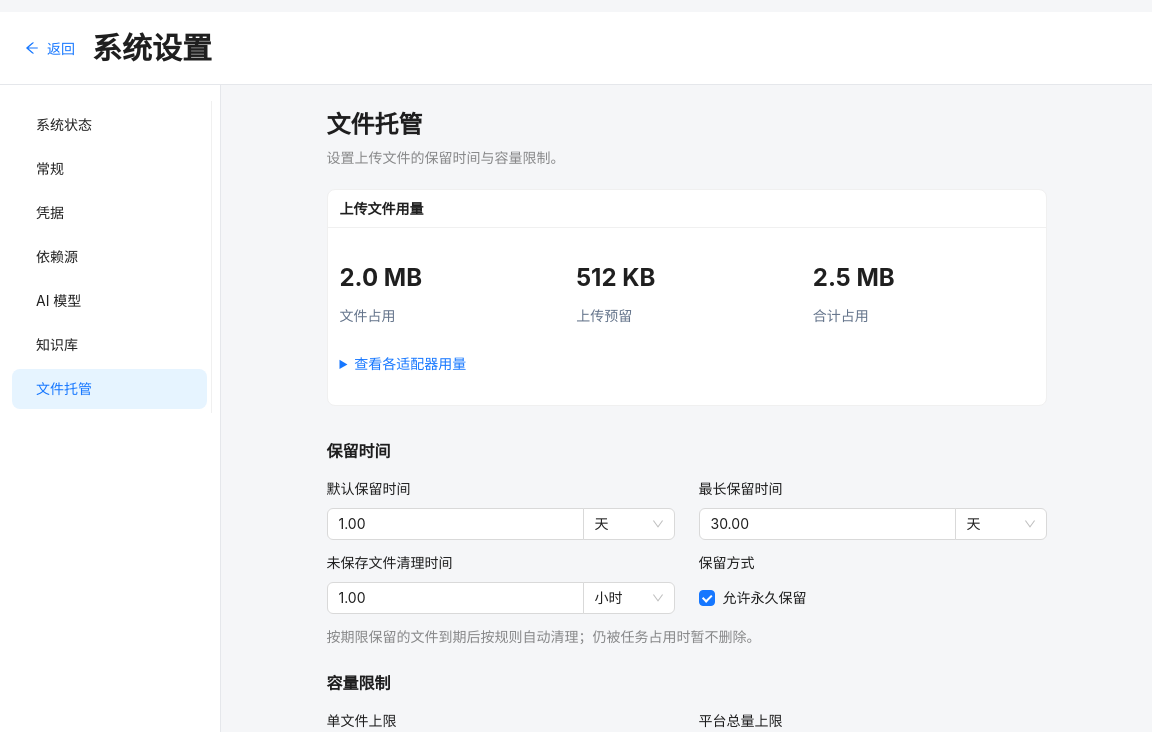
Test case: Issue #127 D1 Managed Input system settings › saves only the bounded policy payload and keeps the reduction warning visible
The image size is (1152, 732).
Replace the text in the number field with test id "managed-input-default-retention" with "2": (455, 524) [328, 509, 582, 539]
(page scrolled)
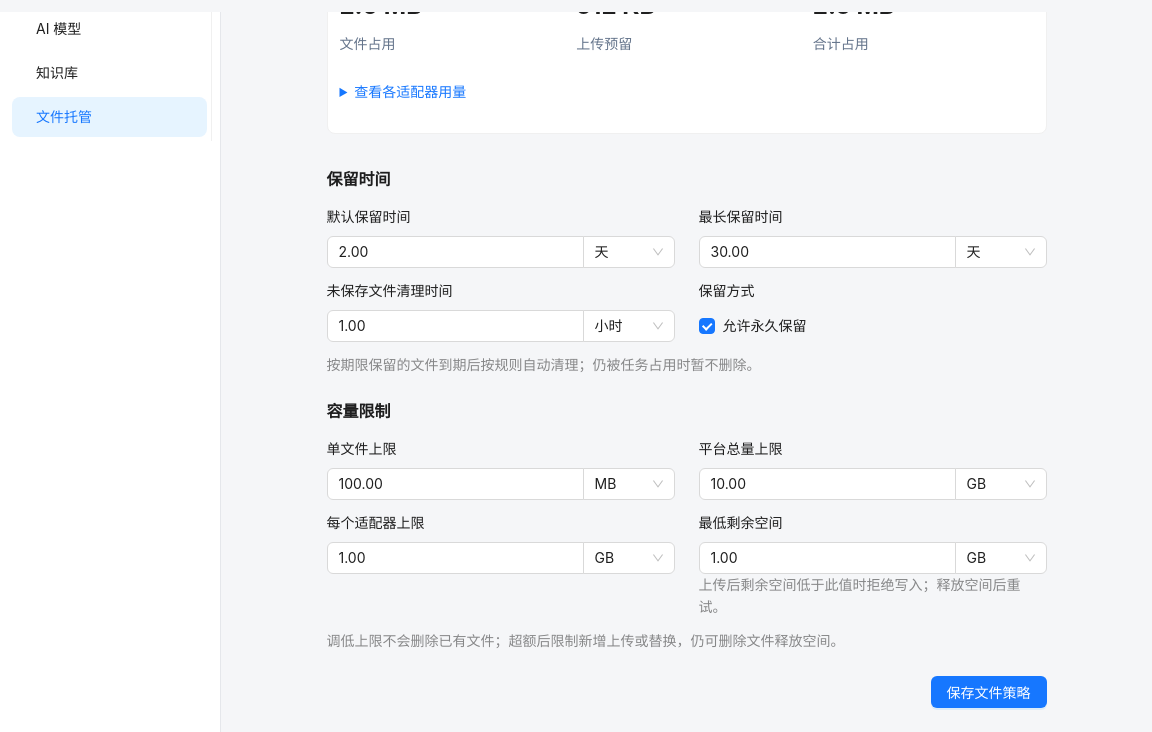
Click the button with test id "managed-input-settings-save": (988, 692) [930, 676, 1046, 708]
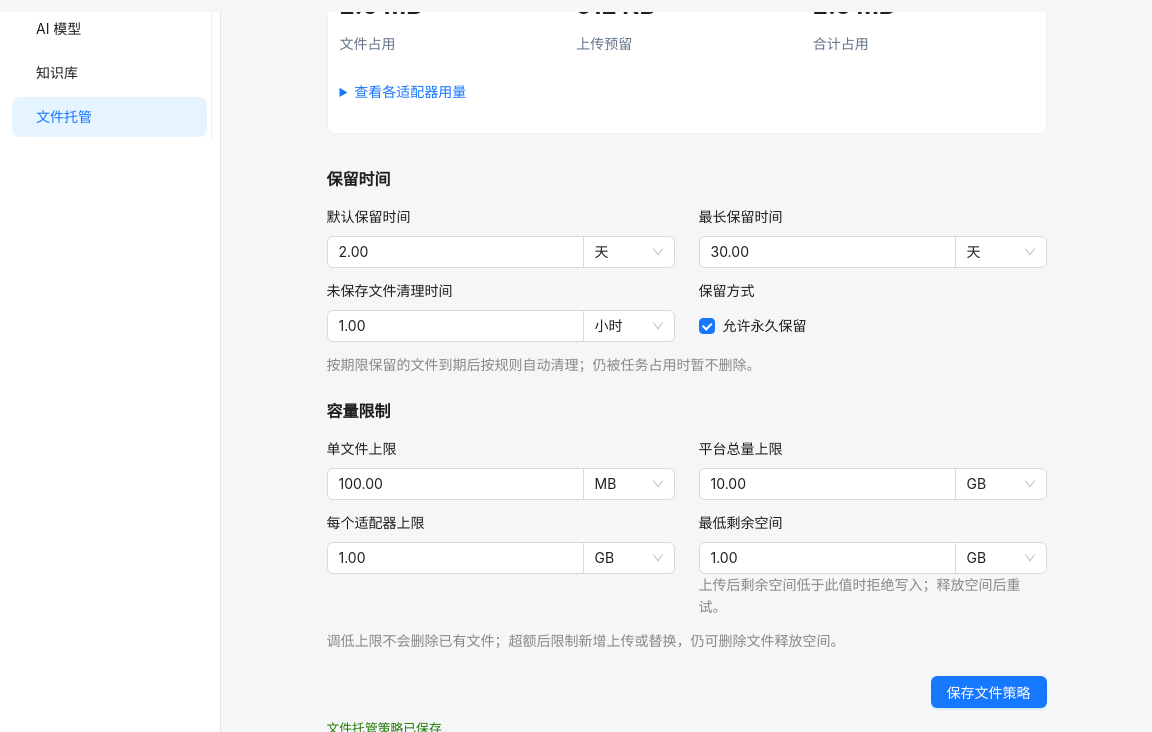
Expected: the text "按期限保留的文件到期后按规则自动清理；仍被任务占用时暂不删除。" is shown, [326, 356, 760, 373]
Now the text "文件托管策略已保存" is shown, box [326, 718, 442, 731]
